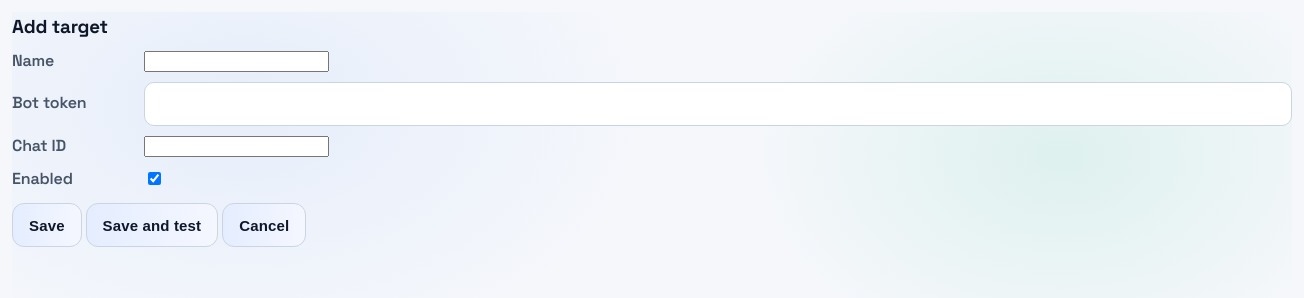
Test: TargetForm › a save error skips the test and shows the error
In the field labelled "Name": (236, 61) [144,51,329,72], type "My phone"
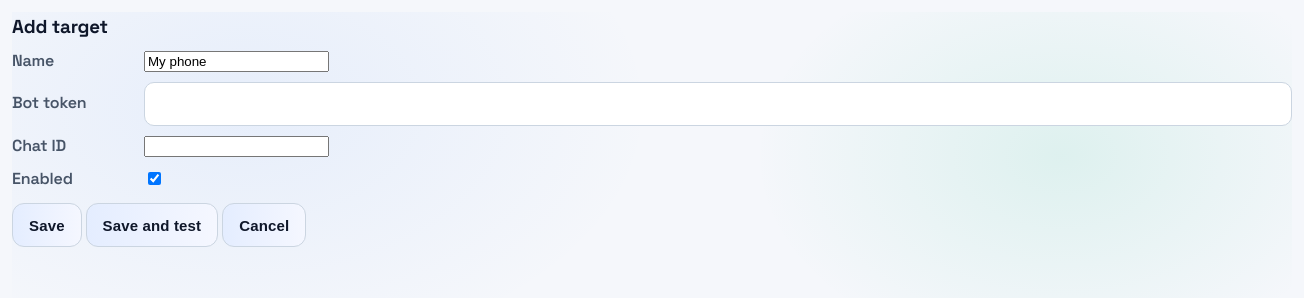
In the password field labelled "Bot token": (718, 104) [144,82,1292,126], type "bad"
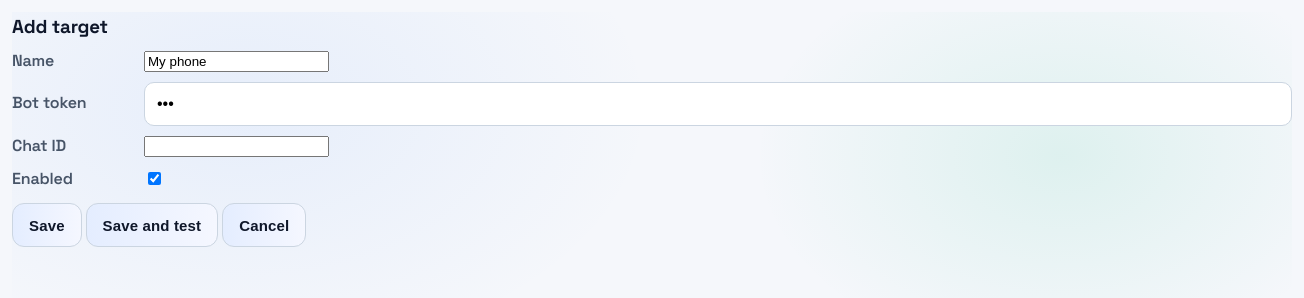
In the field labelled "Chat ID": (236, 146) [144,136,329,157], type "-100"
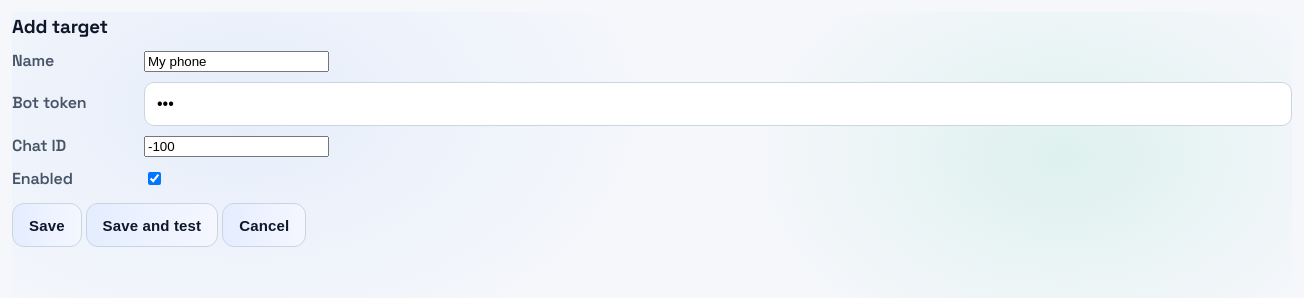
Click the button "Save and test": (152, 225) [86,203,218,247]
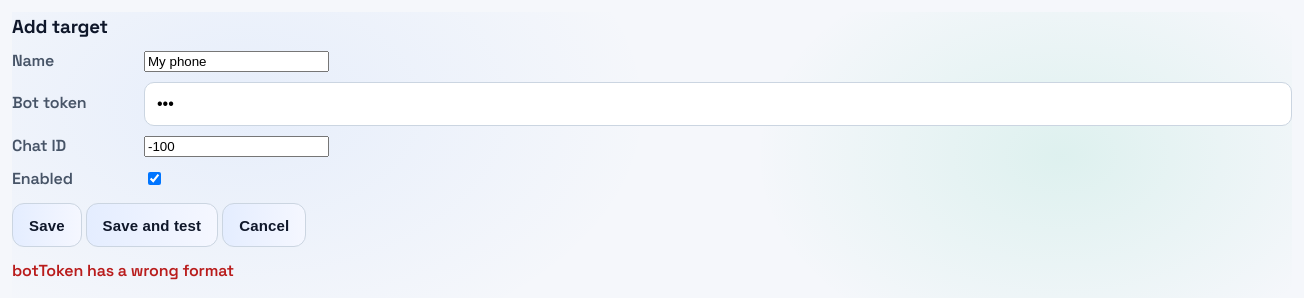
Check: the message reads "botToken has a wrong format", box [12,260,234,281]
